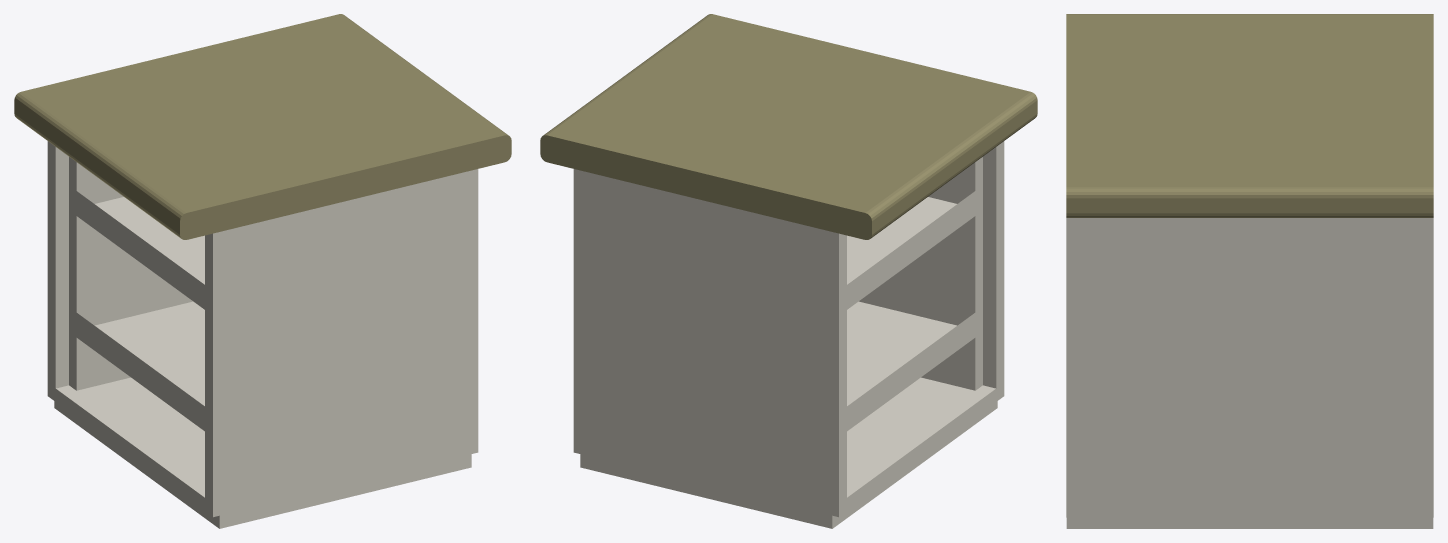
Rendered from BarCounter2.fbx.
The picture shows the model from 3 angles, left to right: view 1: azimuth 30°, elevation 25°; view 2: azimuth 150°, elevation 25°; view 3: azimuth 270°, elevation 25°; orthographic projection. The views are drawn at different scales.
Parts seen in each view (by area): view 1: BarCounter2; view 2: BarCounter2; view 3: BarCounter2.
Boxes of the visible parts, left/top/right/bottom form: BarCounter2: left=14, top=14, right=511, bottom=528; BarCounter2: left=540, top=14, right=1037, bottom=528; BarCounter2: left=1066, top=14, right=1433, bottom=528.
Bounding box in the file's own units: 116 × 108 × 100.
